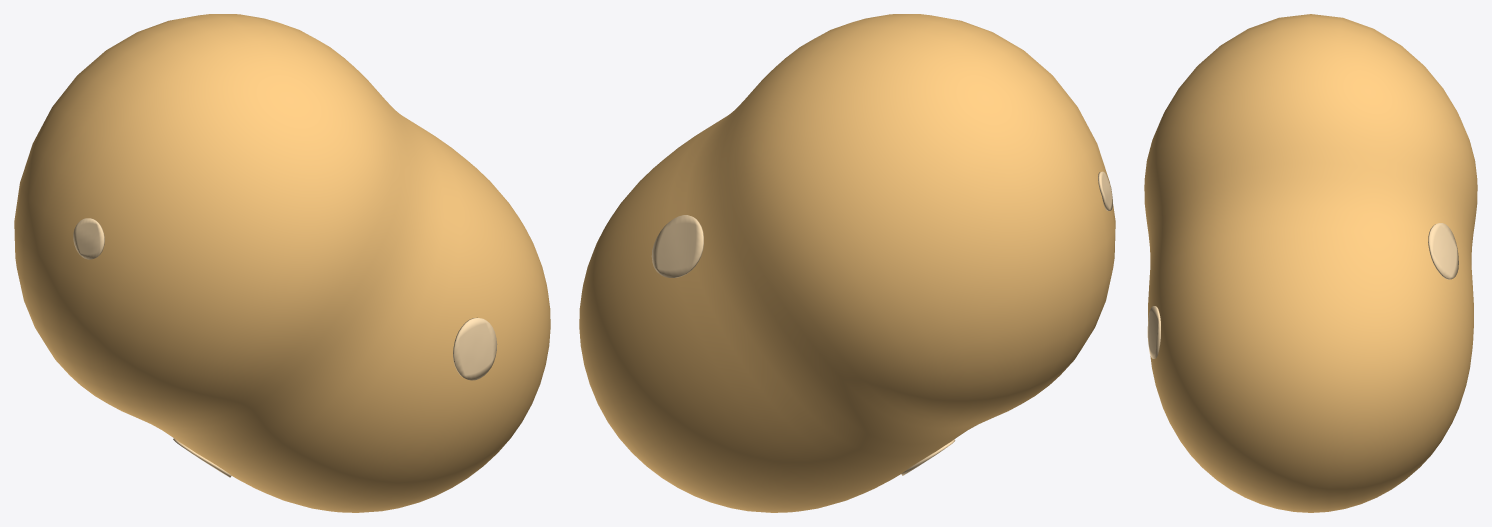
Rendered from potato.glb.
3 renders of one model, left to right at view 1: azimuth 30°, elevation 25°; view 2: azimuth 150°, elevation 25°; view 3: azimuth 270°, elevation 25°, orthographic. The views are drawn at different scales.
Visible parts, largest first — view 1: Cube.343; view 2: Cube.343; view 3: Cube.343.
Part boxes in pixels (x1,y1,x2,y2): Cube.343: [14, 14, 550, 512]; Cube.343: [579, 14, 1115, 512]; Cube.343: [1144, 14, 1477, 512].
Size of the model in its own units: 2.22 by 2.16 by 1.6.
Materials: 1 (1 with a texture image).
